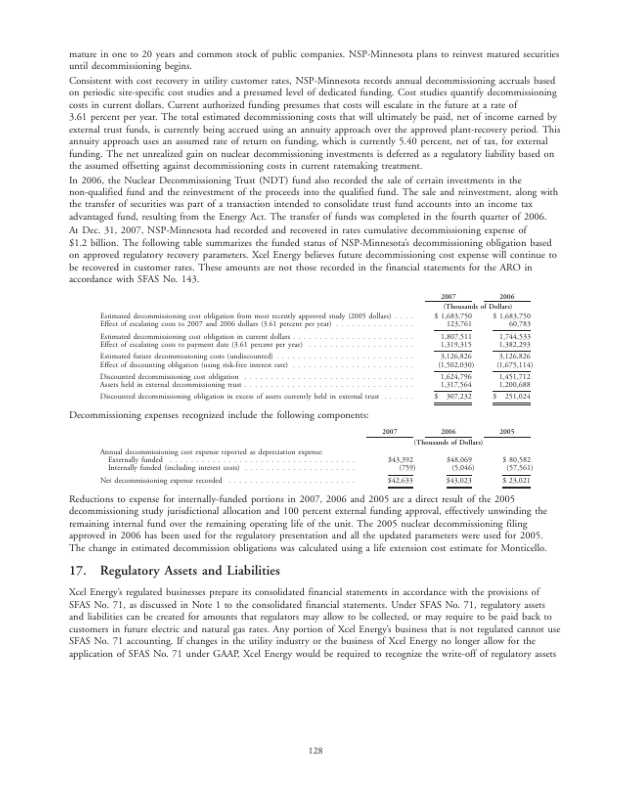table: (363, 427, 534, 488), (423, 289, 474, 408), (483, 290, 534, 406)
